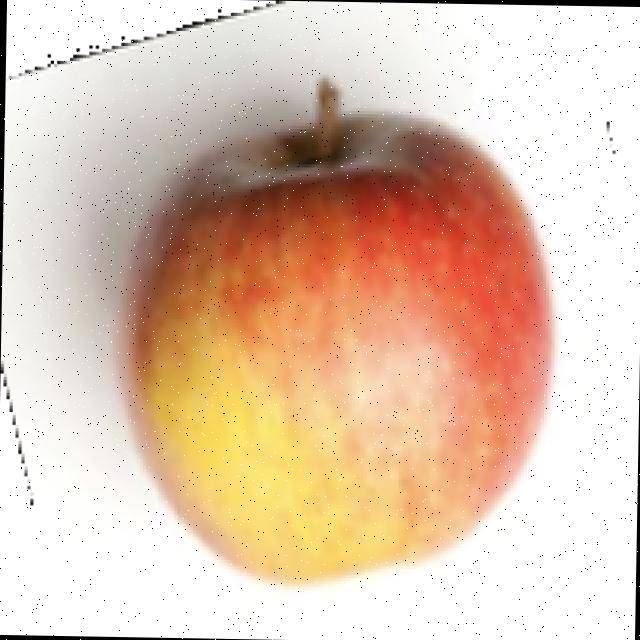apple: (54, 57, 563, 595)
